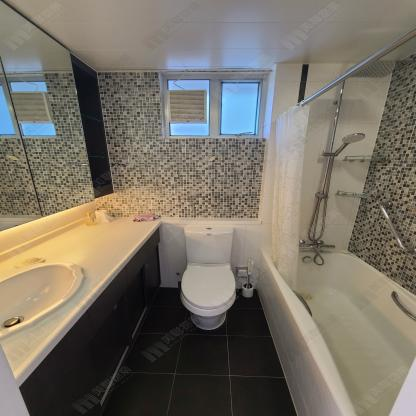Bathtub: (257, 248, 416, 416)
Exhaust Fan: (168, 89, 208, 124)
Toilet: (177, 225, 237, 329)
Toilet Sink: (0, 261, 84, 339)
